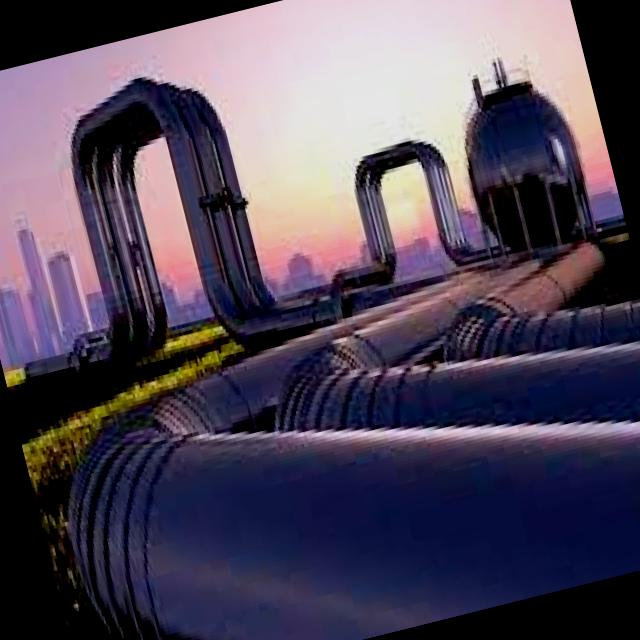gas: (68, 410, 640, 640), (74, 81, 478, 352), (71, 77, 275, 355), (274, 339, 640, 431), (149, 321, 355, 450), (442, 298, 640, 361)
